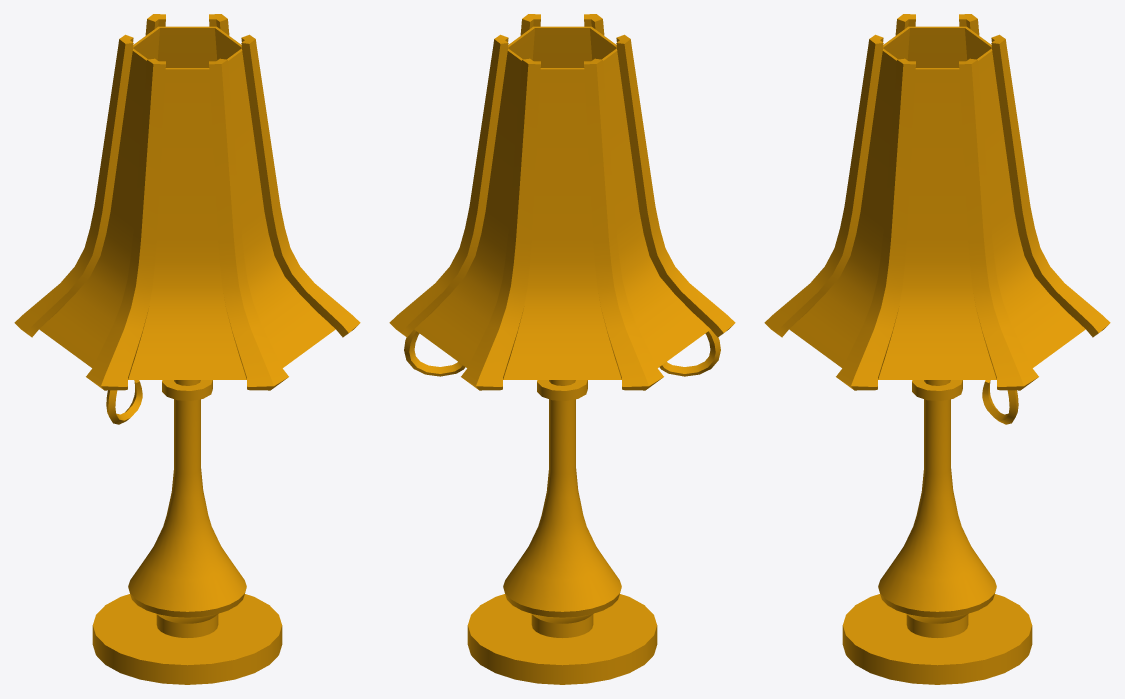
File: F_desk_lamp.fbx
3 renders of one model, left to right at view 1: azimuth 30°, elevation 25°; view 2: azimuth 150°, elevation 25°; view 3: azimuth 270°, elevation 25°, orthographic.
Visible parts, largest first — view 1: F_desk_lamp; view 2: F_desk_lamp; view 3: F_desk_lamp.
Boxes of the visible parts, x1=… form: F_desk_lamp: x1=14, y1=14, x2=360, y2=684; F_desk_lamp: x1=389, y1=14, x2=735, y2=684; F_desk_lamp: x1=764, y1=14, x2=1110, y2=684.
Size of the model in its own units: 25.89 by 56.96 by 29.51.
